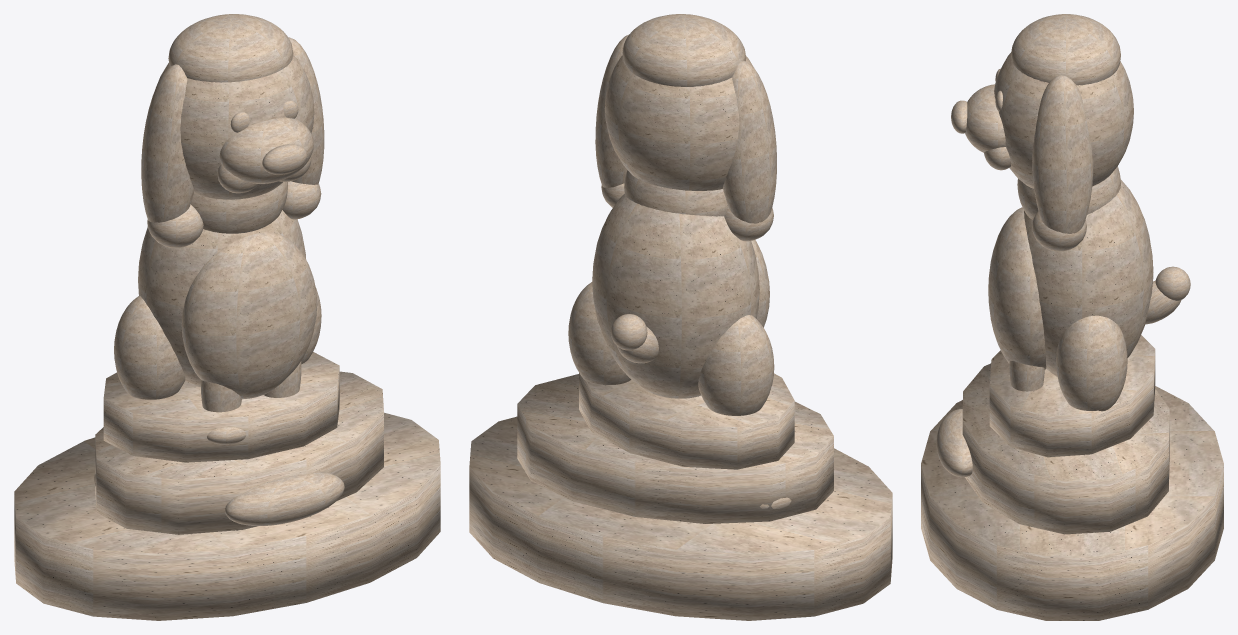
The model's file is Hole_3_Dog.glb.
3 views of the same model, side by side, from view 1: azimuth 30°, elevation 25°; view 2: azimuth 150°, elevation 25°; view 3: azimuth 270°, elevation 25° (orthographic). The views are drawn at different scales.
Visible parts, largest first — view 1: tail_tip; view 2: tail_tip; view 3: tail_tip.
Part boxes in pixels (x1=…): tail_tip: x1=14, y1=14, x2=440, y2=620; tail_tip: x1=469, y1=14, x2=892, y2=620; tail_tip: x1=921, y1=14, x2=1223, y2=620.
Size of the model in its own units: 1.35 by 1.72 by 0.935.
1 material, 1 textured.
